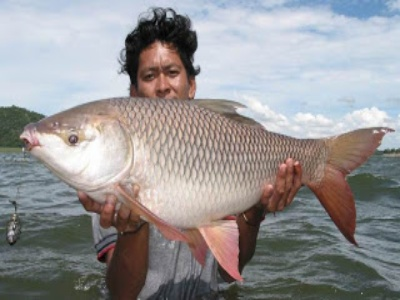rohu: (15, 94, 399, 281)
